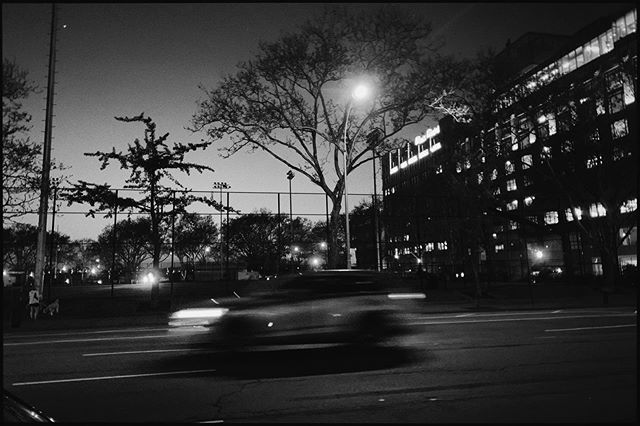building: (388, 27, 640, 273)
sky: (50, 1, 241, 117)
street: (1, 303, 632, 426)
tree: (199, 18, 494, 271), (74, 115, 211, 279)
